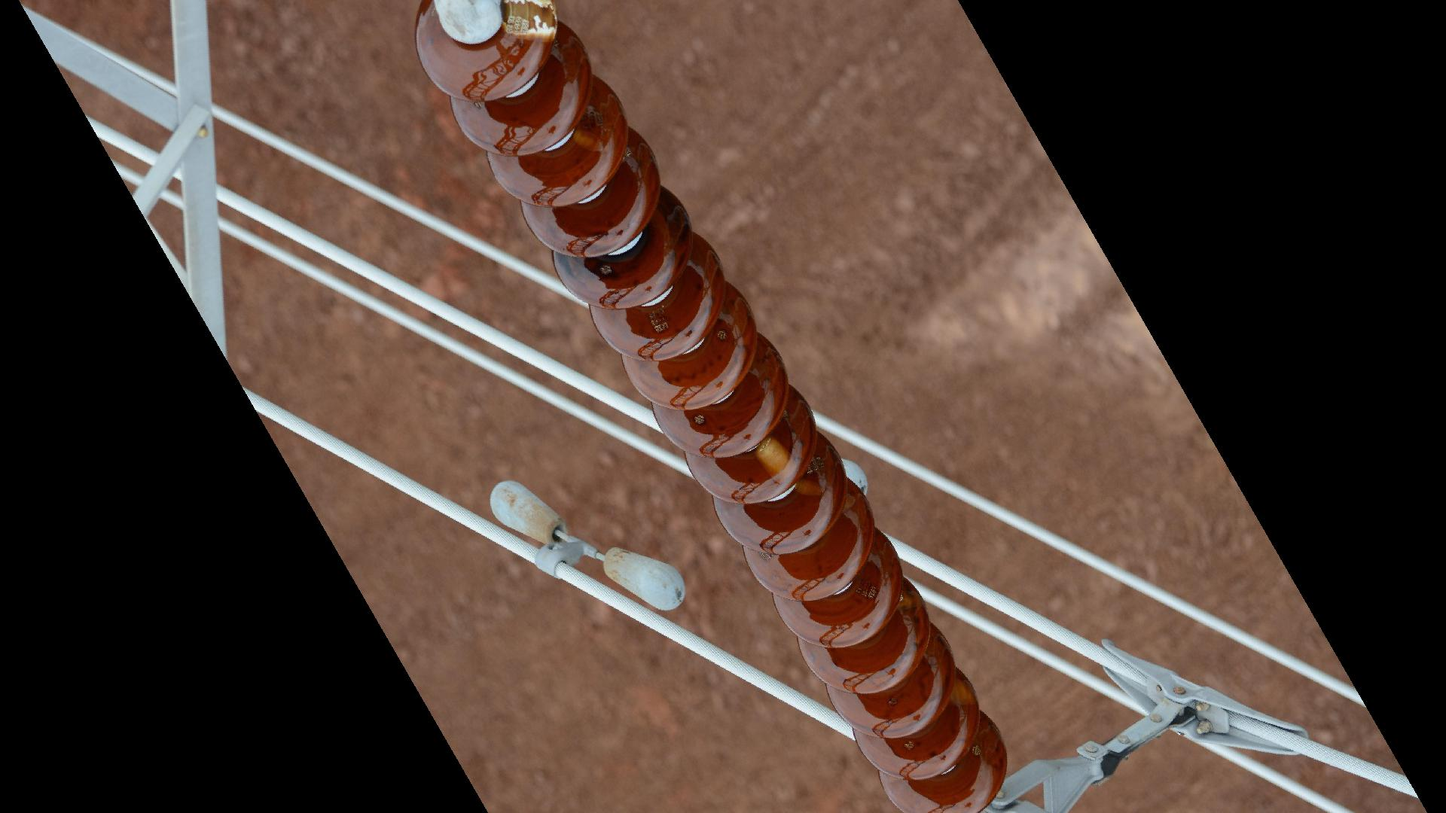insulator: (405, 1, 1016, 813)
insulator_flashover: (752, 434, 801, 487), (501, 1, 560, 41)
